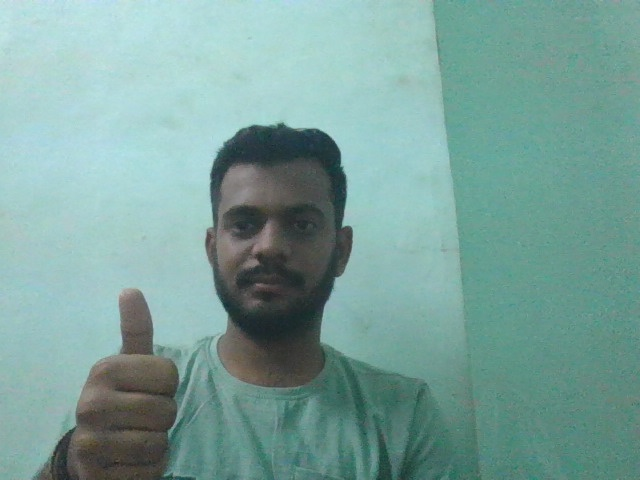yes: (54, 283, 196, 480)
